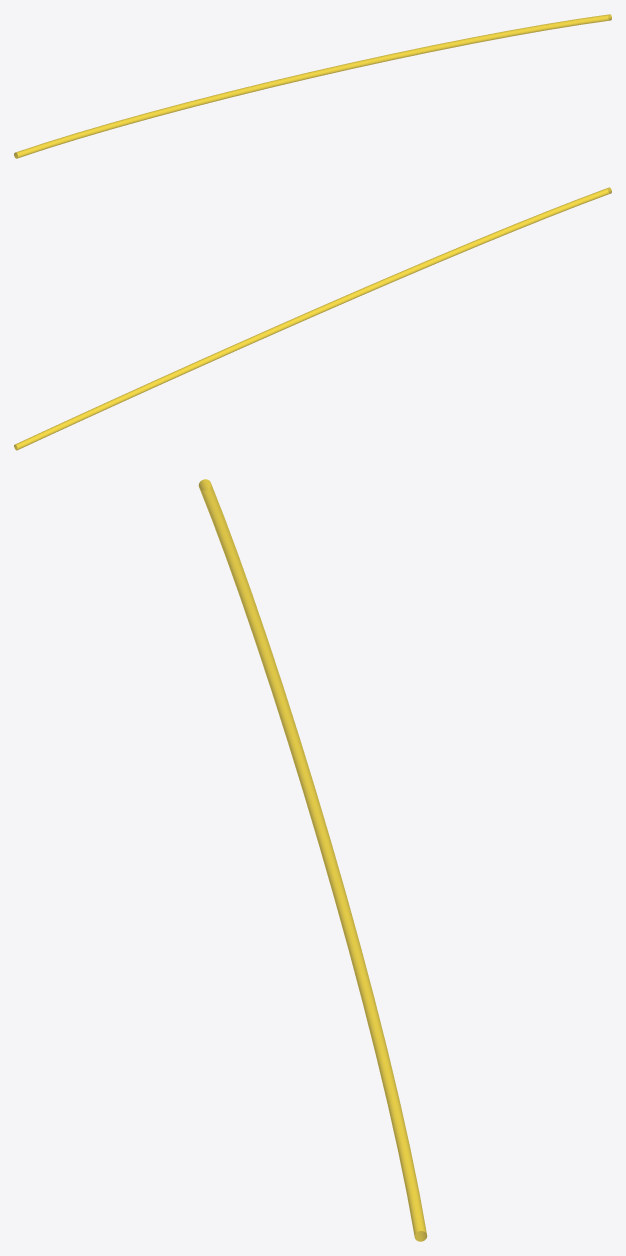
The model's file is Event_40932208_track_18.fbx.
3 views of the same model, one above another, from view 1: azimuth 30°, elevation 25°; view 2: azimuth 210°, elevation 25°; view 3: azimuth 270°, elevation 25° (orthographic). The views are drawn at different scales.
Parts seen in each view (by area): view 1: Model; view 2: Model; view 3: Model.
Boxes of the visible parts, bbox=[...] form: Model: bbox=[14, 14, 611, 158]; Model: bbox=[14, 187, 611, 450]; Model: bbox=[198, 479, 427, 1241].
Bounding box in the file's own units: 4.7 × 0.4515 × 0.7173.
